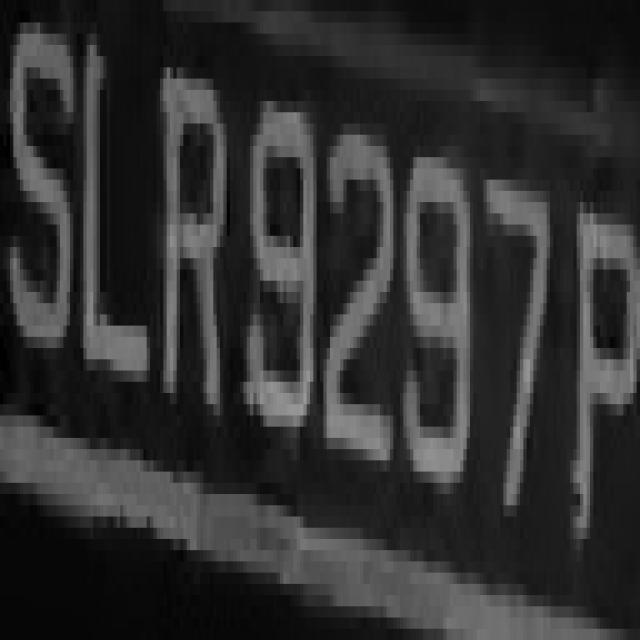2: (324, 90, 404, 516)
7: (473, 101, 557, 550)
9: (250, 56, 327, 494), (400, 123, 477, 539)
L: (80, 56, 150, 416)
P: (560, 157, 637, 550)
R: (150, 56, 237, 449)
S: (3, 0, 80, 371)
